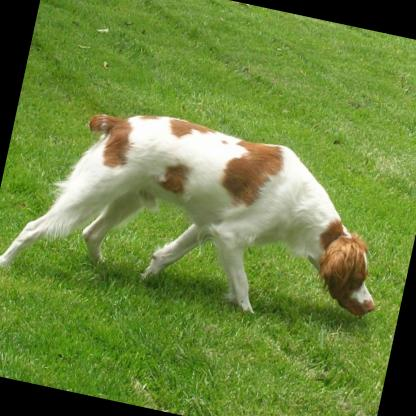Brittany_spaniel: (0, 85, 406, 351)
